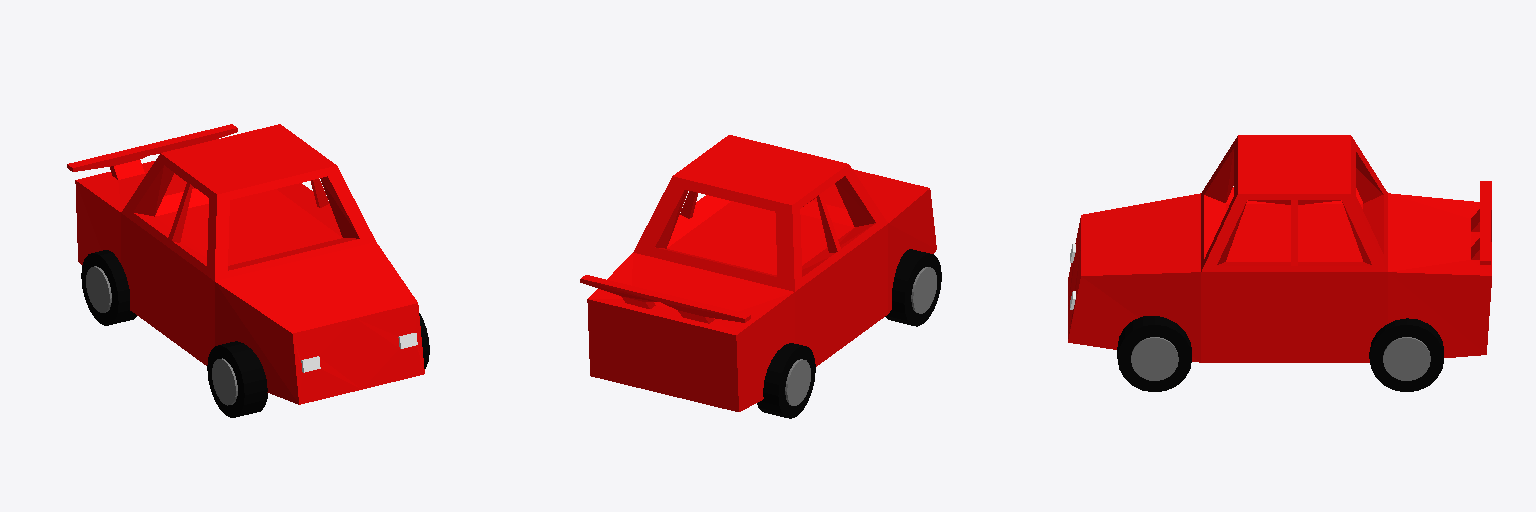
3 renders of one model, left to right at view 1: azimuth 30°, elevation 25°; view 2: azimuth 150°, elevation 25°; view 3: azimuth 270°, elevation 25°, orthographic.
Parts seen in each view (by area): view 1: pPlane6, test:FrontTires, test:BackTires1; view 2: pPlane6, test:BackTires1, test:FrontTires; view 3: pPlane6, test:FrontTires, test:BackTires1.
Boxes of the visible parts, x1,y1,x2,y2 form: pPlane6: [67, 124, 424, 404]; test:FrontTires: [207, 313, 429, 417]; test:BackTires1: [81, 250, 136, 325]; pPlane6: [580, 135, 936, 411]; test:BackTires1: [757, 343, 815, 418]; test:FrontTires: [885, 249, 941, 326]; pPlane6: [1068, 135, 1491, 362]; test:FrontTires: [1117, 316, 1191, 391]; test:BackTires1: [1369, 318, 1443, 391].
Bounding box in the file's own units: 1.17 × 1.08 × 2.27.